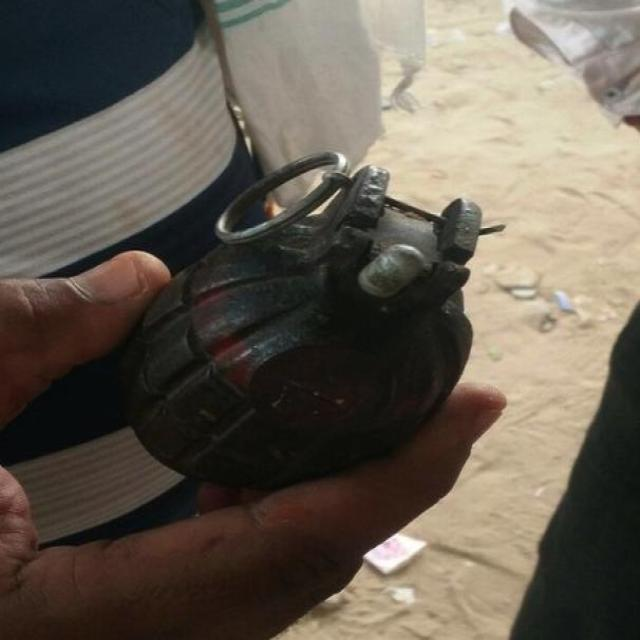grenade: (123, 152, 485, 490)
